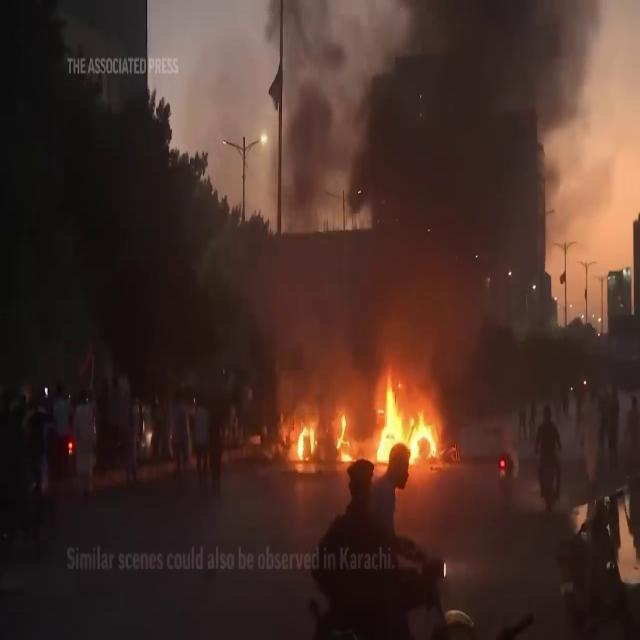Fire: (370, 372, 442, 474), (284, 397, 358, 472)
Smoke: (263, 1, 636, 347)
